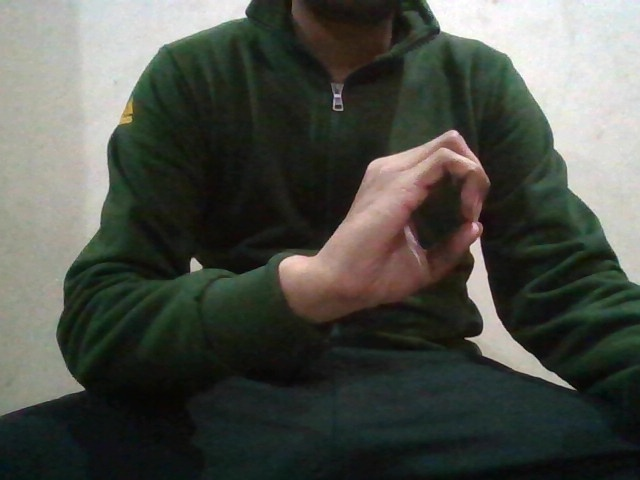O: (331, 129, 497, 316)
